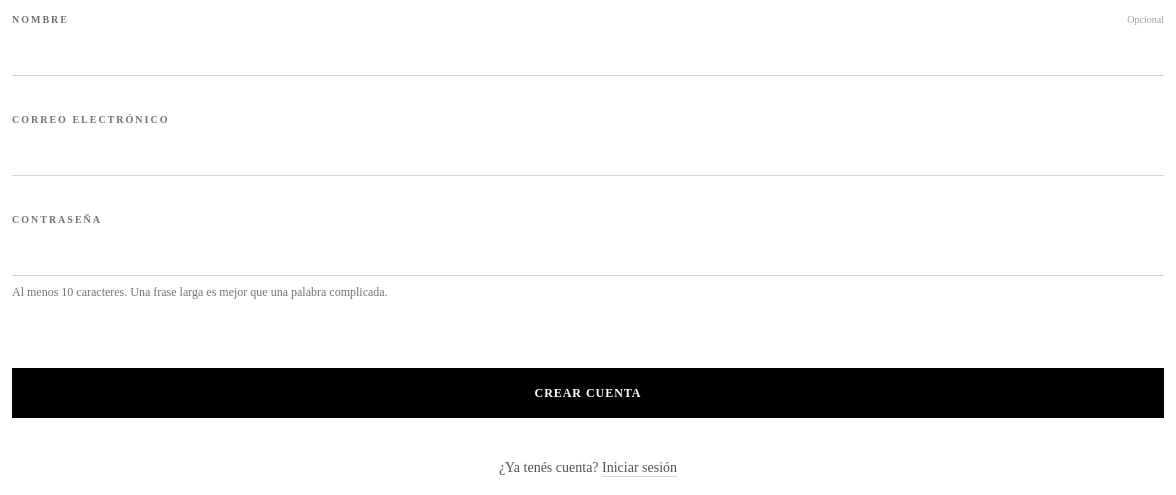
Test: SignUpForm: submit › shows server side field errors next to the field
In the field labelled "Nombre Opcional": point(588, 52) [12,27,1164,76], type "Ana Perez"
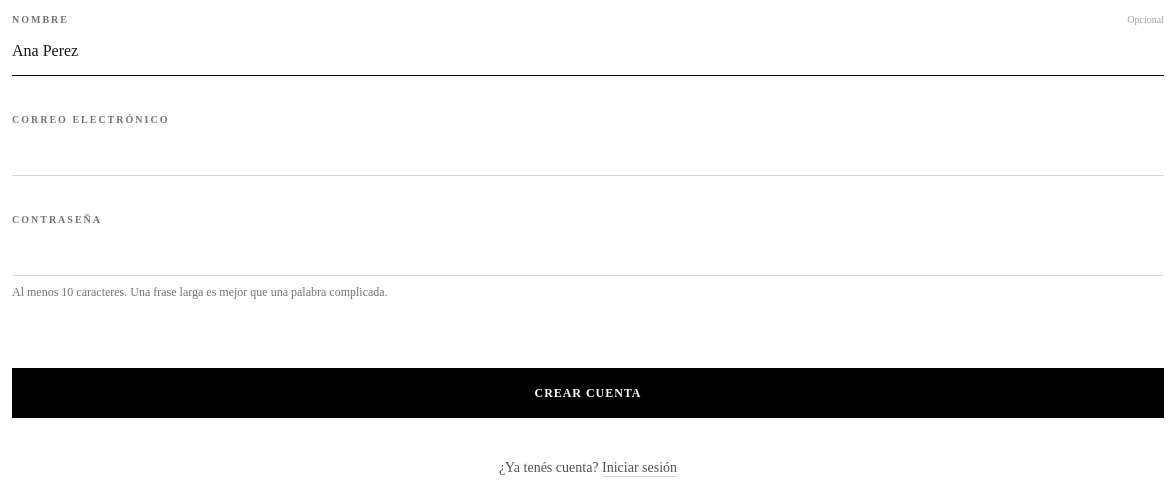
In the field labelled "Correo electrónico": point(588, 152) [12,127,1164,176], type "ana@example.com"
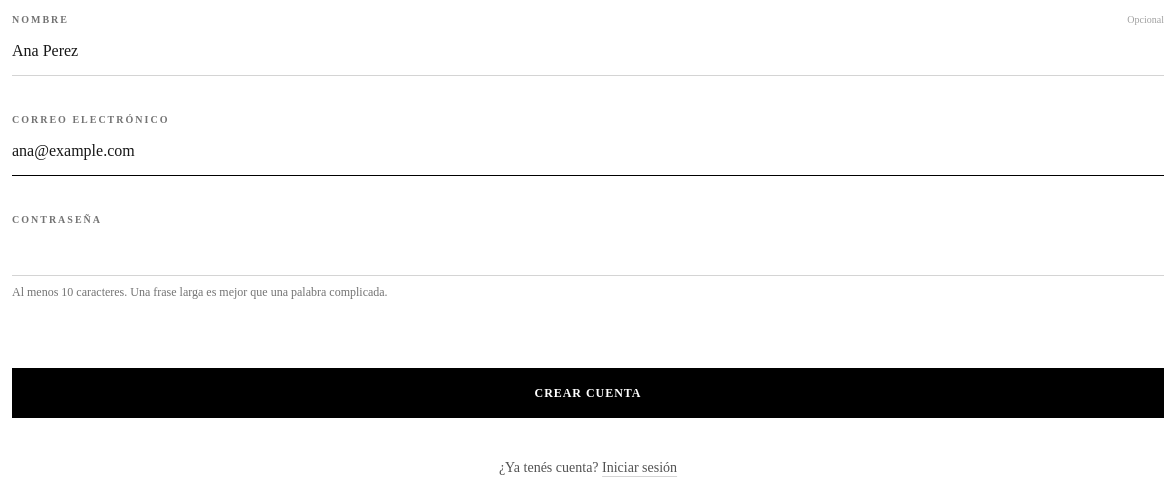
In the password field labelled "Contraseña": point(588, 252) [12,227,1164,276], type "tortuga-azul-bicicleta-77"
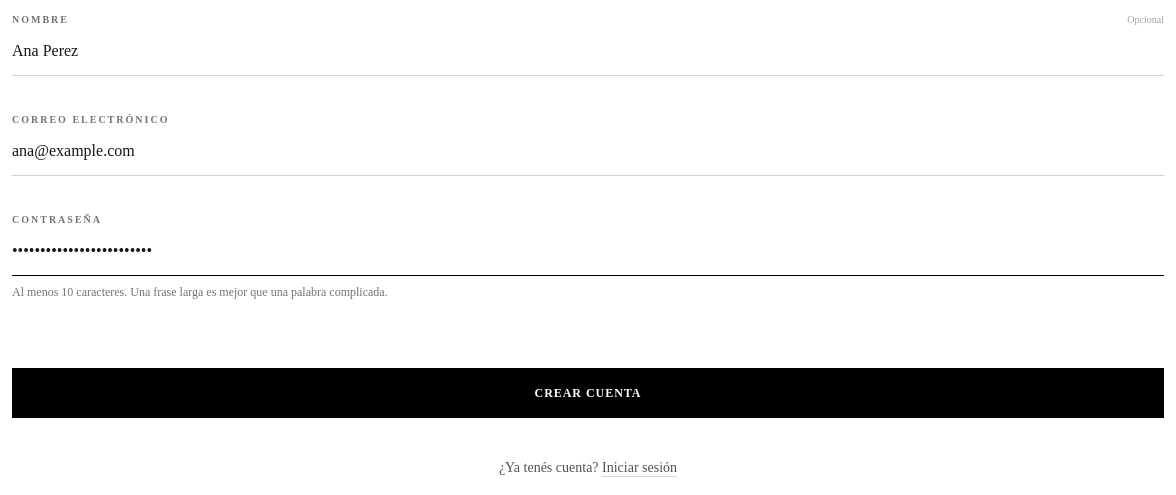
Click the button "Crear cuenta": point(588, 393) [12,368,1164,418]
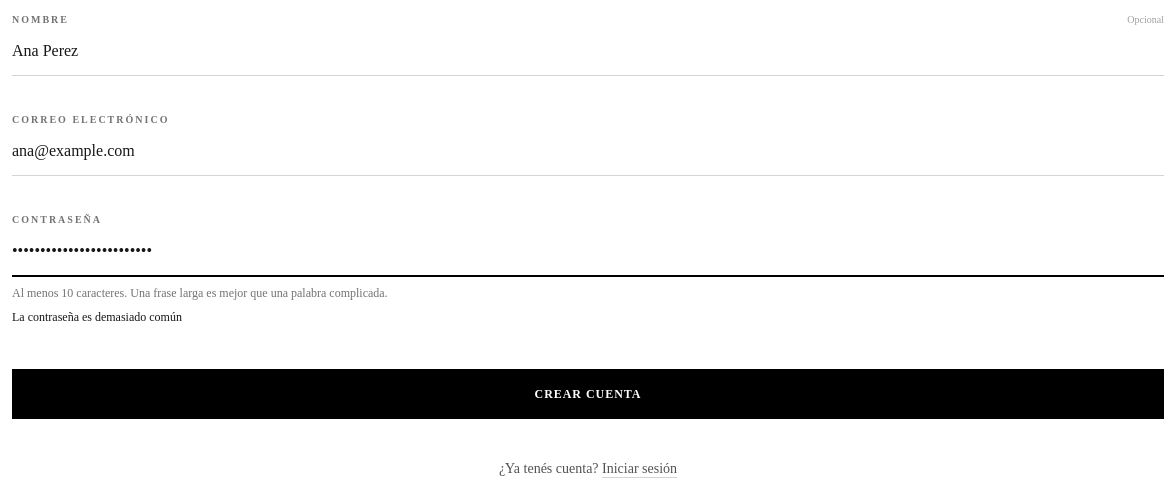
Check: the text "La contraseña es demasiado común" is shown, box [12,310,182,324]
